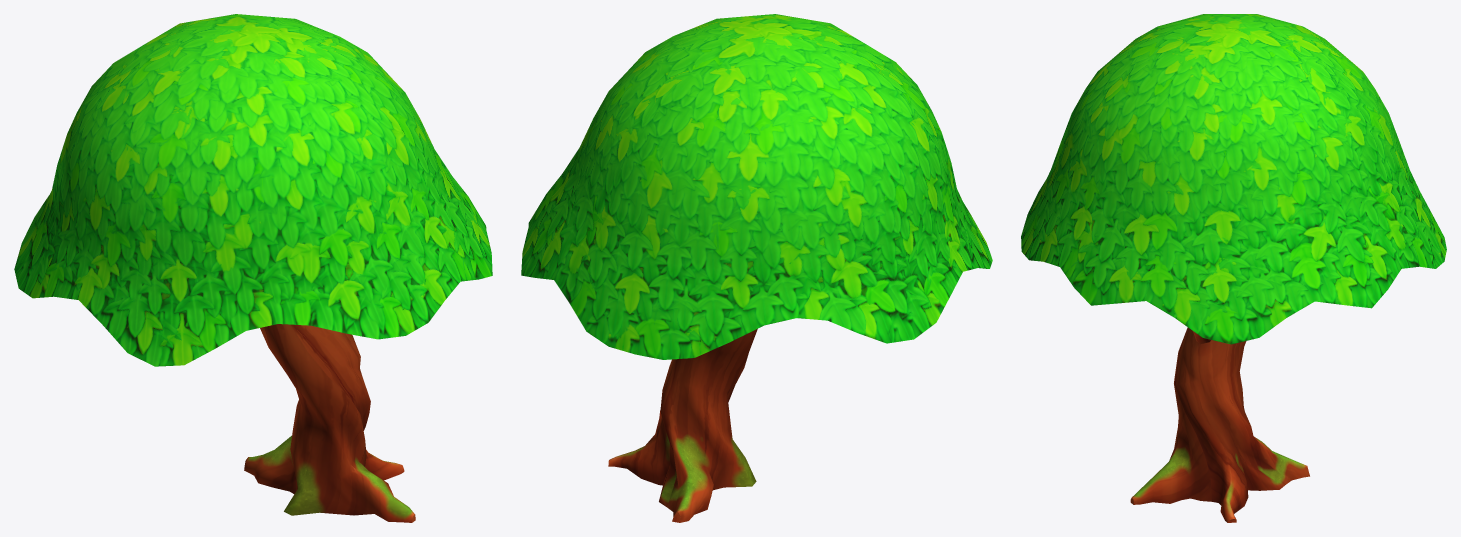
File: Tree04.FBX
3 views of the same model, side by side, from view 1: azimuth 30°, elevation 25°; view 2: azimuth 150°, elevation 25°; view 3: azimuth 270°, elevation 25° (orthographic). The views are drawn at different scales.
Parts seen in each view (by area): view 1: Tree04; view 2: Tree04; view 3: Tree04.
Boxes of the visible parts, x1,y1,x2,y2 form: Tree04: (14, 14, 492, 522); Tree04: (521, 14, 992, 522); Tree04: (1021, 14, 1446, 522).
Size of what is drawn, in the model's own units: 6.16 by 6.66 by 6.05.
